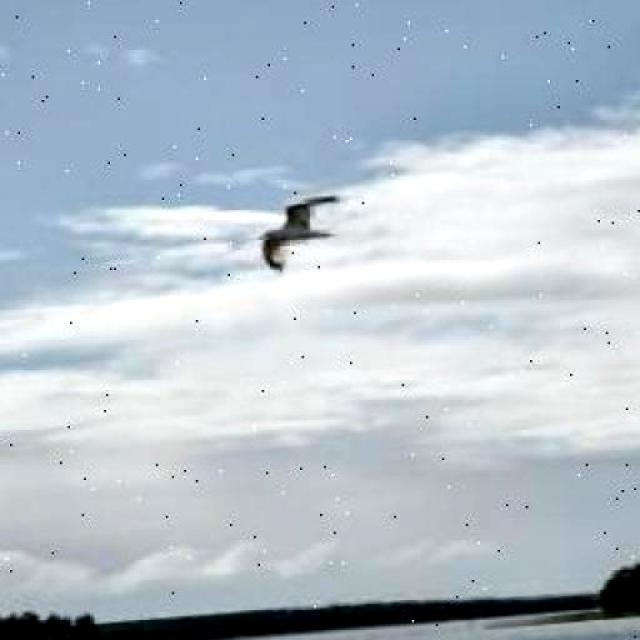airplane: (248, 192, 359, 274)
